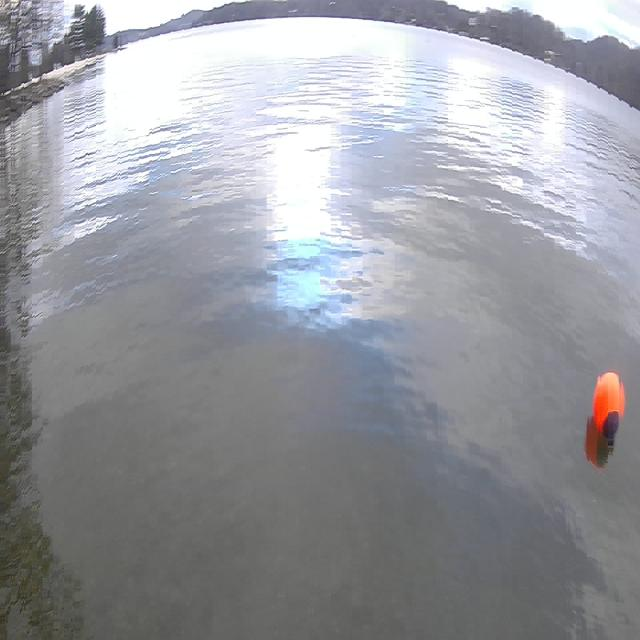Buoy: (587, 359, 628, 452)
